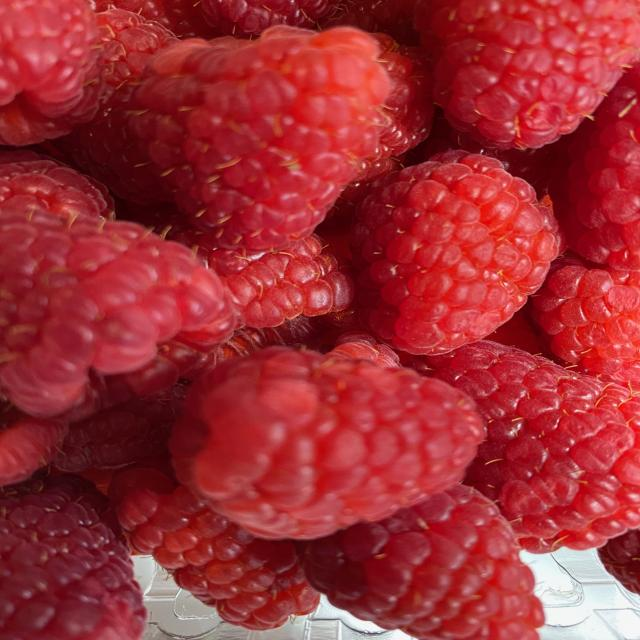raspberries: (16, 6, 627, 628)
